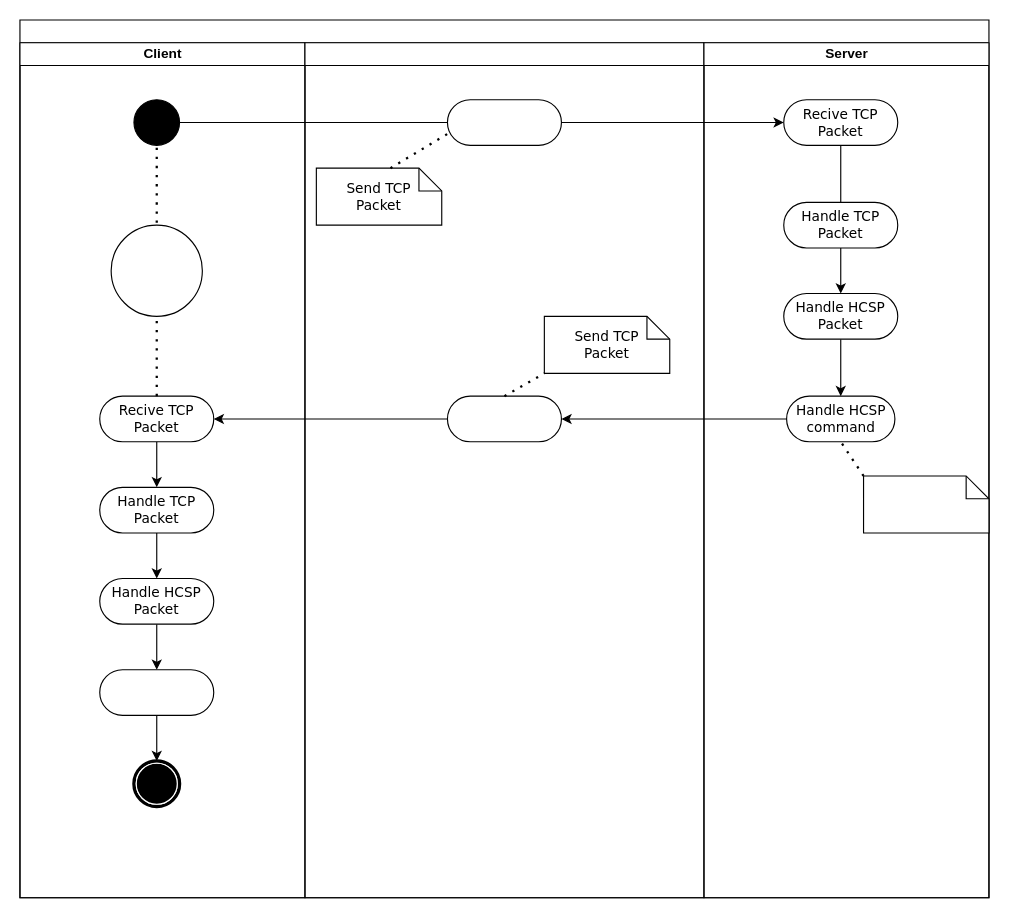
Some shapes in this 1009 by 918 pixel diagram are drawn without their labels. The shapes that lost their labels are listed below. From the top down, each one's box as (x1, y1, x2, y2) in pixels, then its label:
(446, 99, 561, 145): Send request
(110, 224, 202, 316): Response waiting
(446, 395, 561, 442): Send response
(862, 475, 989, 533): (Insert, Delete, Update, etc.)
(99, 669, 214, 715): Extract value and status
